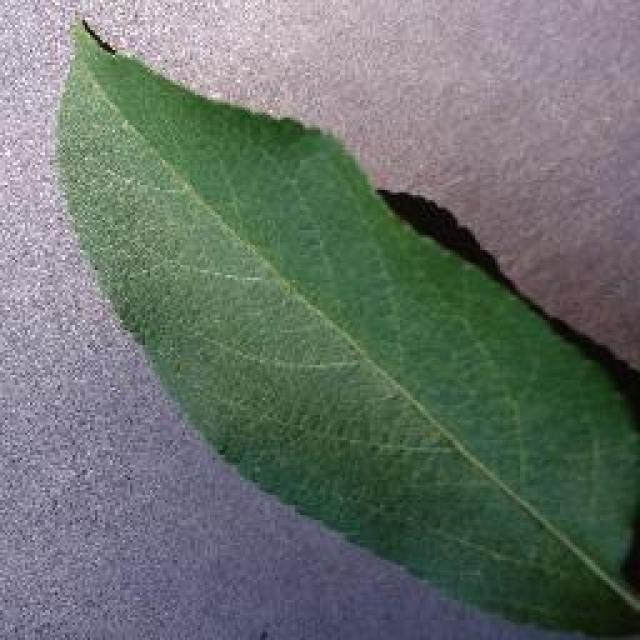apple healthy: (48, 10, 638, 638)
